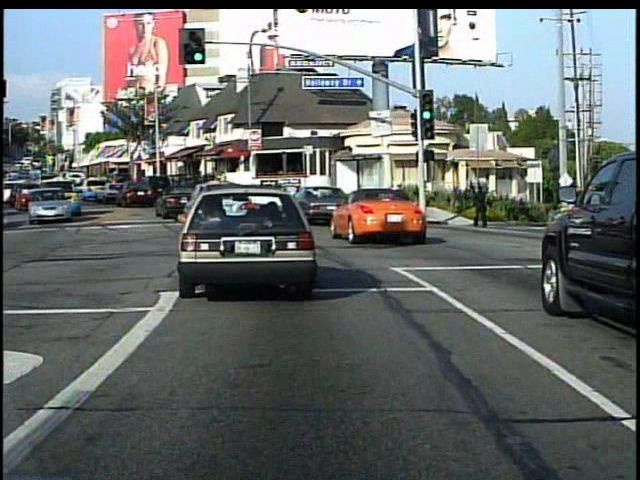person: (559, 184, 582, 245), (468, 182, 490, 229)
